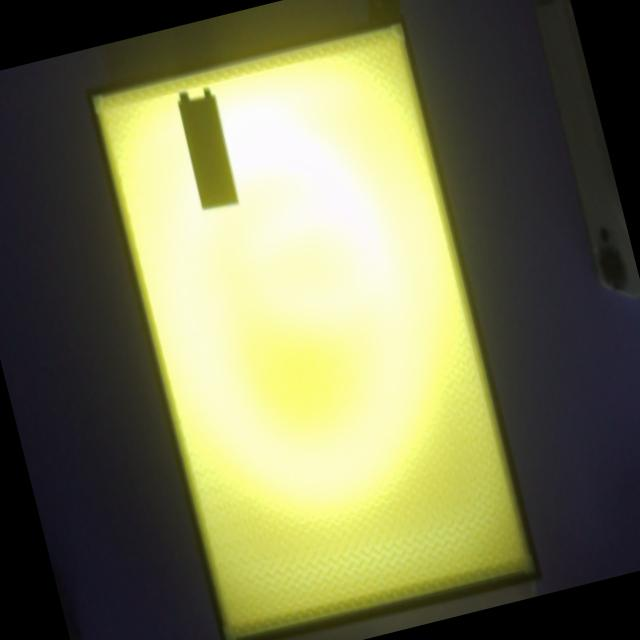bateria: (176, 85, 241, 211)
mesa: (84, 12, 543, 640)
